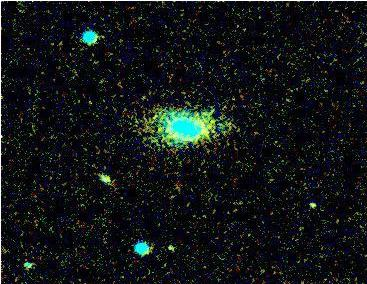star: (298, 189, 328, 219)
